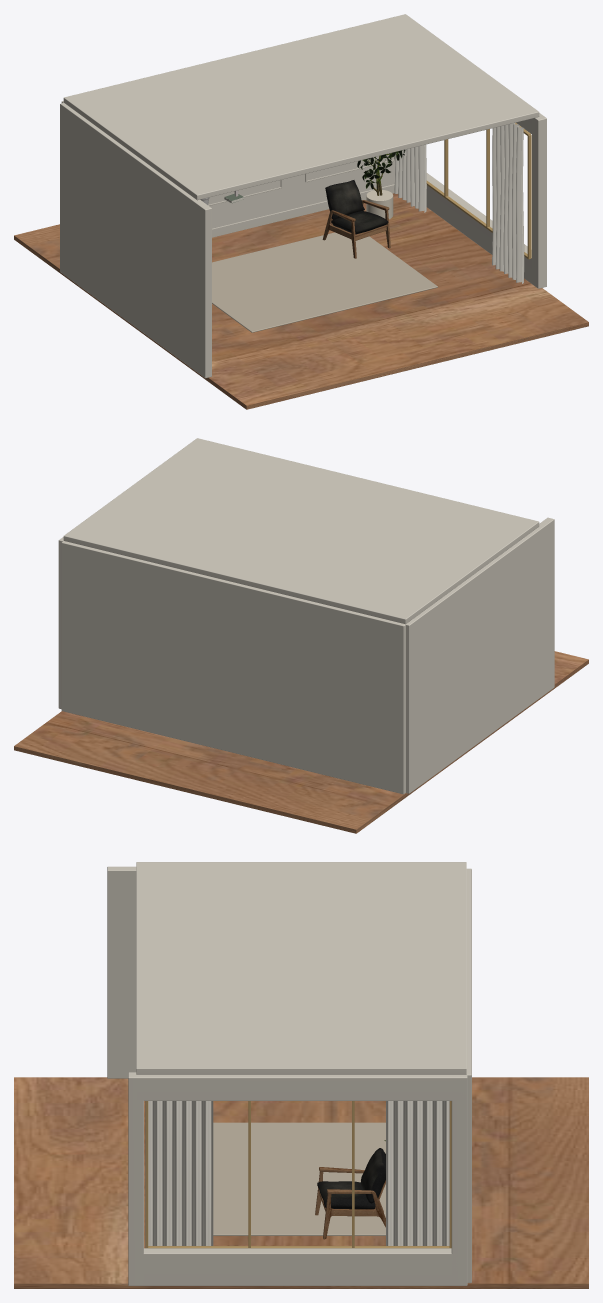
File: entry-interior.glb
3 views of the same model, one above another, from view 1: azimuth 30°, elevation 25°; view 2: azimuth 150°, elevation 25°; view 3: azimuth 270°, elevation 25° (orthographic). The views are drawn at different scales.
Parts seen in each view (by area): view 1: Ceiling, Solid oak floor, Left return, Woven area rug, Back plaster wall, Pleated curtain, modern_arm_chair_01, Window wall pier, Window wall sill, Pleated curtain.001, Skirting back, pachira_aquatica_01_leaves_d (+2 smaller); view 2: Back plaster wall, Ceiling, Left return, Solid oak floor, Window wall pier.001; view 3: Ceiling, Solid oak floor, Woven area rug, Window wall sill, Pleated curtain, Pleated curtain.001, Window wall lintel, Left return, Window wall pier.001, Window wall pier, modern_arm_chair_01, Back plaster wall (+2 smaller).
Part boxes in pixels (x1,y1,x2,y2): Ceiling: (63, 14, 539, 200); Solid oak floor: (14, 193, 588, 409); Left return: (60, 103, 211, 378); Woven area rug: (212, 232, 437, 332); Back plaster wall: (61, 101, 395, 228); Pleated curtain: (492, 123, 524, 283); modern_arm_chair_01: (322, 180, 390, 258); Window wall pier: (532, 114, 546, 288); Window wall sill: (426, 173, 534, 283); Pleated curtain.001: (394, 144, 426, 212); Skirting back: (212, 184, 394, 237); pachira_aquatica_01_leaves_d: (357, 149, 405, 189); Back plaster wall: (61, 541, 405, 794); Ceiling: (63, 438, 539, 624); Left return: (405, 517, 554, 793); Solid oak floor: (14, 651, 588, 833); Window wall pier.001: (58, 537, 63, 709); Ceiling: (136, 862, 466, 1074); Solid oak floor: (14, 1077, 588, 1288); Woven area rug: (213, 1122, 385, 1235); Window wall sill: (137, 1248, 465, 1285); Pleated curtain: (145, 1101, 213, 1247); Pleated curtain.001: (386, 1101, 449, 1245); Window wall lintel: (137, 1074, 465, 1100); Left return: (107, 866, 136, 1078); Window wall pier.001: (451, 1074, 467, 1285); Window wall pier: (128, 1072, 143, 1285); modern_arm_chair_01: (315, 1148, 385, 1239); Back plaster wall: (466, 868, 471, 1282).
Bounding box in the file's own units: 6.96 × 3.39 × 8.
Materials: 16 (7 with a texture image).
